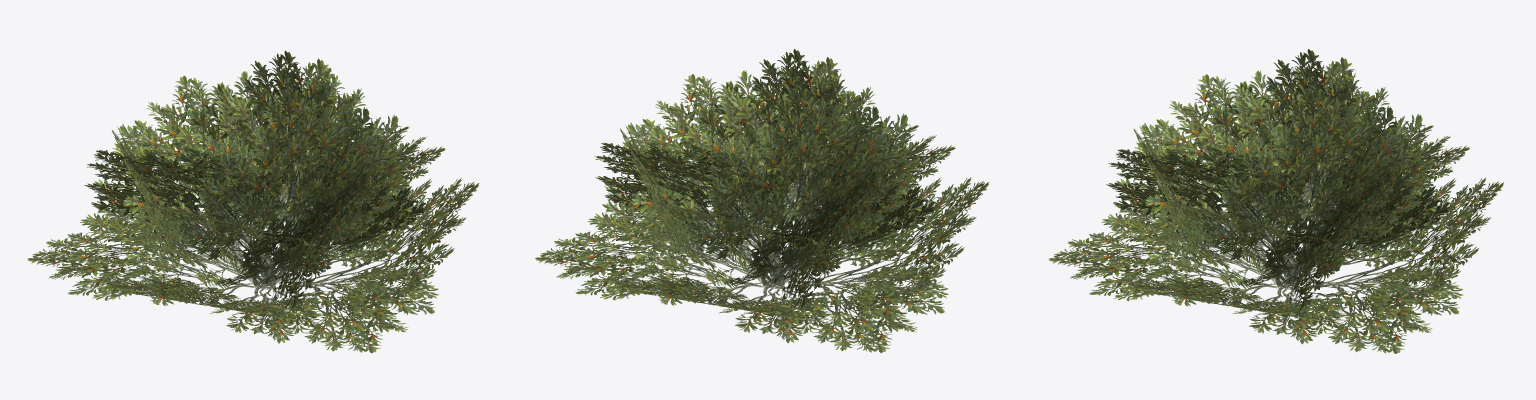
File: bush1.FBX
3 views of the same model, side by side, from view 1: azimuth 30°, elevation 25°; view 2: azimuth 150°, elevation 25°; view 3: azimuth 270°, elevation 25° (orthographic).
Visible parts, largest first — view 1: bush1; view 2: bush1; view 3: bush1.
Boxes of the visible parts, x1,y1,x2,y2 form: bush1: (27,50,479,353); bush1: (535,49,988,353); bush1: (1048,49,1503,353).
Bounding box in the file's own units: 130 × 70.59 × 114.
